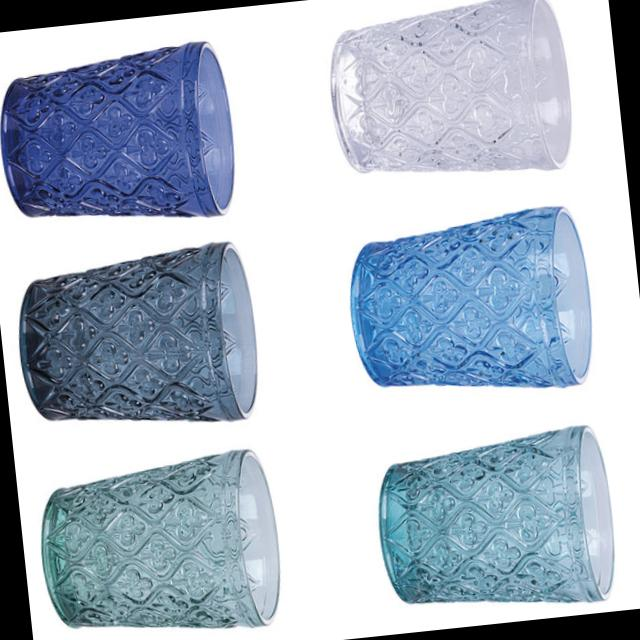glass: (0, 0, 640, 640), (350, 196, 604, 440), (349, 418, 622, 626), (19, 248, 280, 464), (20, 448, 300, 640), (0, 28, 257, 234), (316, 0, 578, 197)
